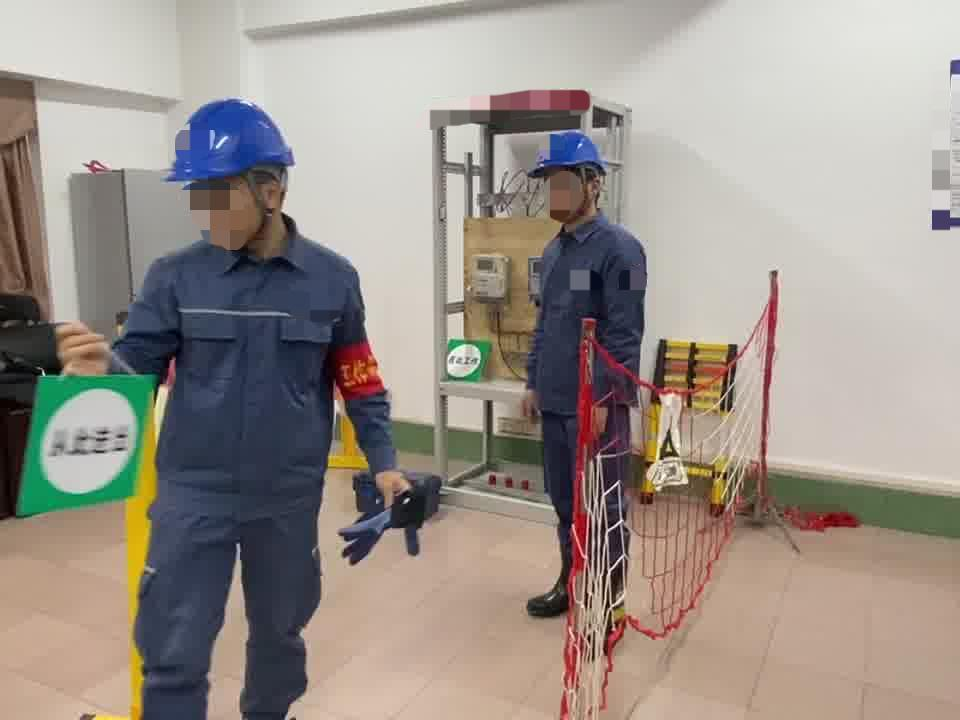halt: (167, 99, 303, 252), (530, 131, 613, 228)
inear: (244, 170, 290, 231), (579, 169, 604, 207)
